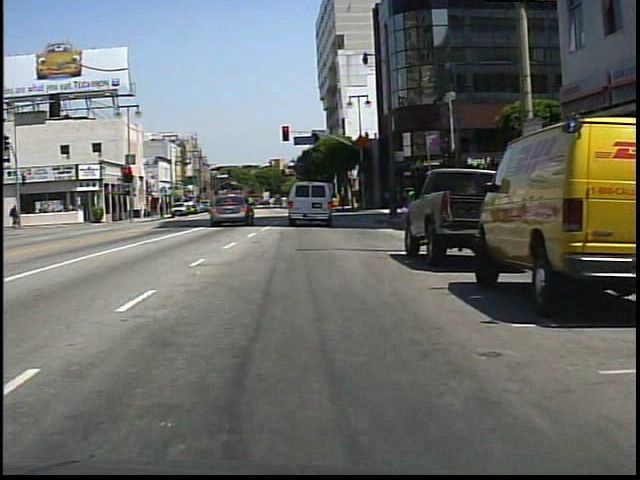person: (291, 189, 310, 222), (8, 202, 24, 230), (244, 193, 258, 220)
